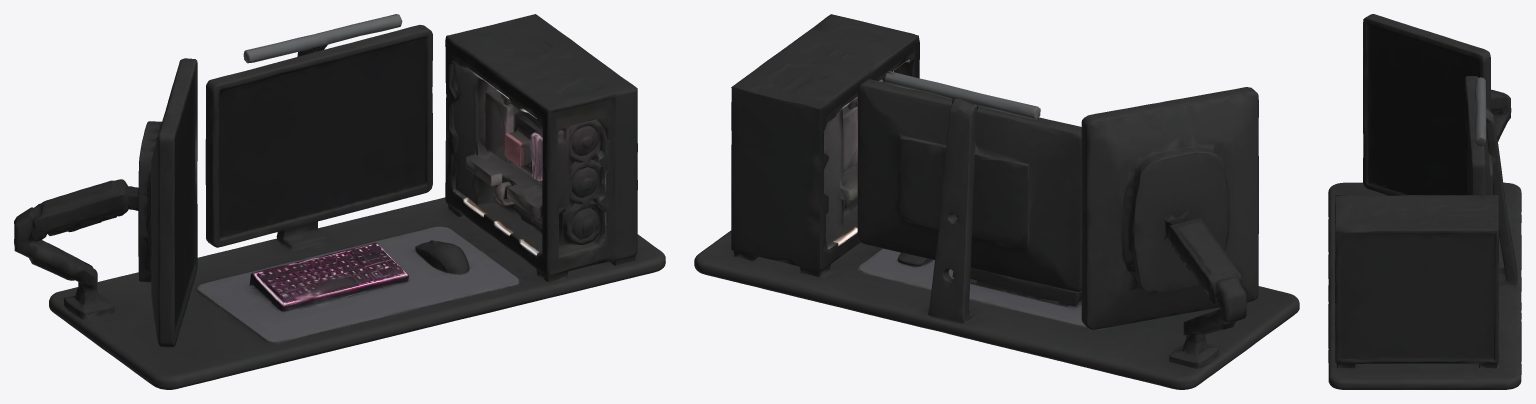
Rendered from 07-setup-pc.glb.
3 views of the same model, side by side, from view 1: azimuth 30°, elevation 25°; view 2: azimuth 150°, elevation 25°; view 3: azimuth 270°, elevation 25° (orthographic). The views are drawn at different scales.
Parts seen in each view (by area): view 1: tripo_node_57773215-1a14-48f5-a681-c24f94c9582e; view 2: tripo_node_57773215-1a14-48f5-a681-c24f94c9582e; view 3: tripo_node_57773215-1a14-48f5-a681-c24f94c9582e.
Boxes of the visible parts, bbox=[...] form: tripo_node_57773215-1a14-48f5-a681-c24f94c9582e: bbox=[14, 14, 665, 389]; tripo_node_57773215-1a14-48f5-a681-c24f94c9582e: bbox=[694, 14, 1299, 389]; tripo_node_57773215-1a14-48f5-a681-c24f94c9582e: bbox=[1328, 14, 1521, 389].
Size of the model in its own units: 1 by 0.4057 by 0.3769.
1 material, 1 textured.
